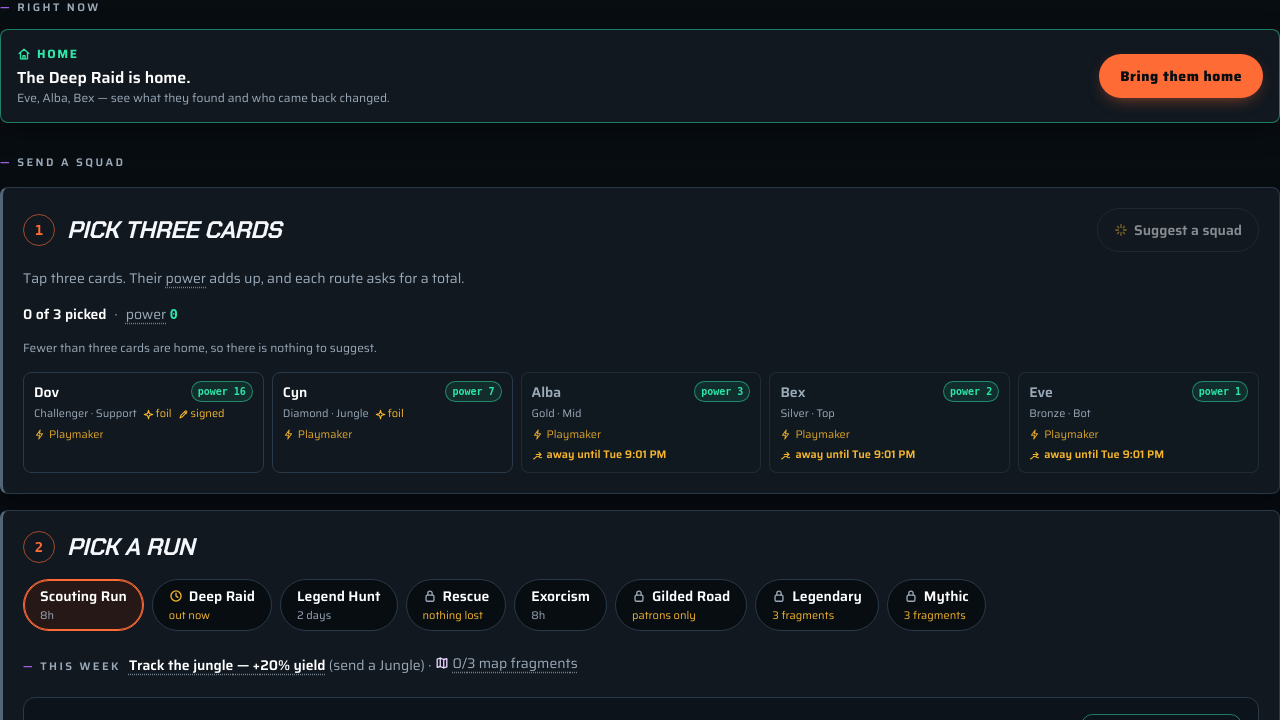
Scenario: ExpeditionBoard — the claim ceremony › can be dismissed with the keyboard
Click the button with aria-label "Claim the Deep Raid" at x=1181, y=76, box [1099, 54, 1263, 98]
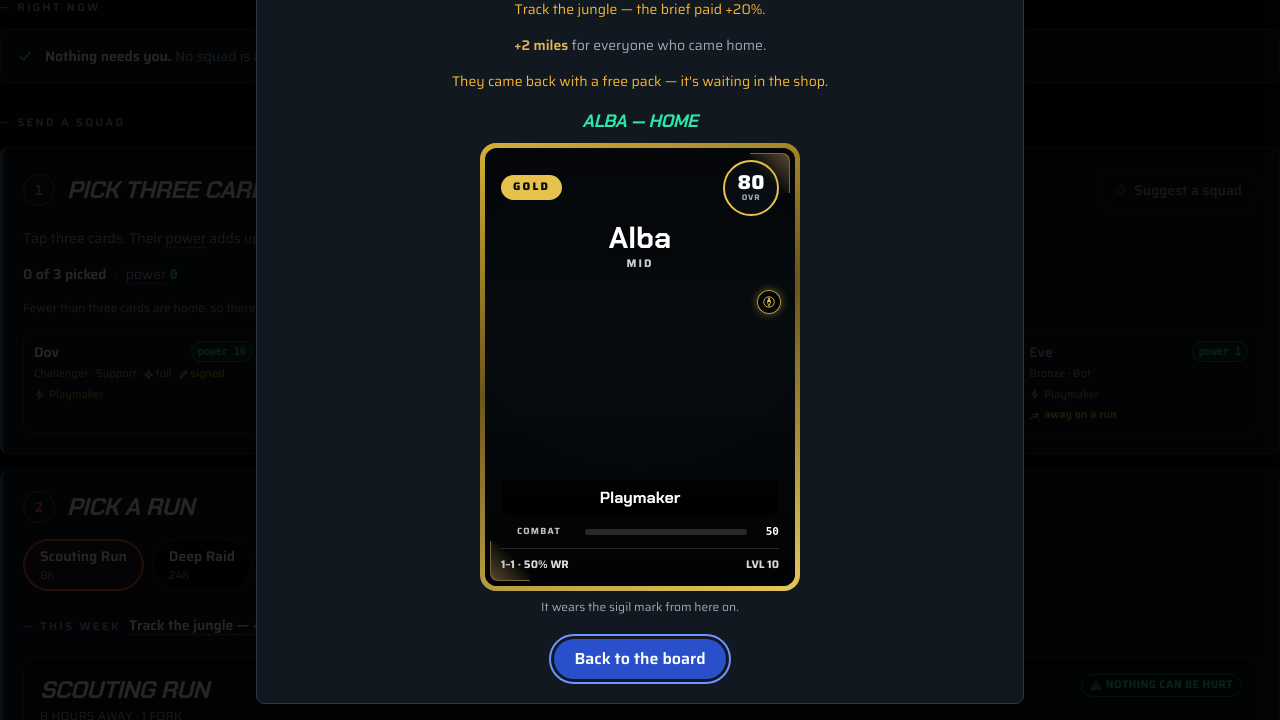
Result: the dialog with test id "expedition-ceremony" is shown
Result: the button "Back to the board" is shown at [554, 638, 726, 678]
Press Escape
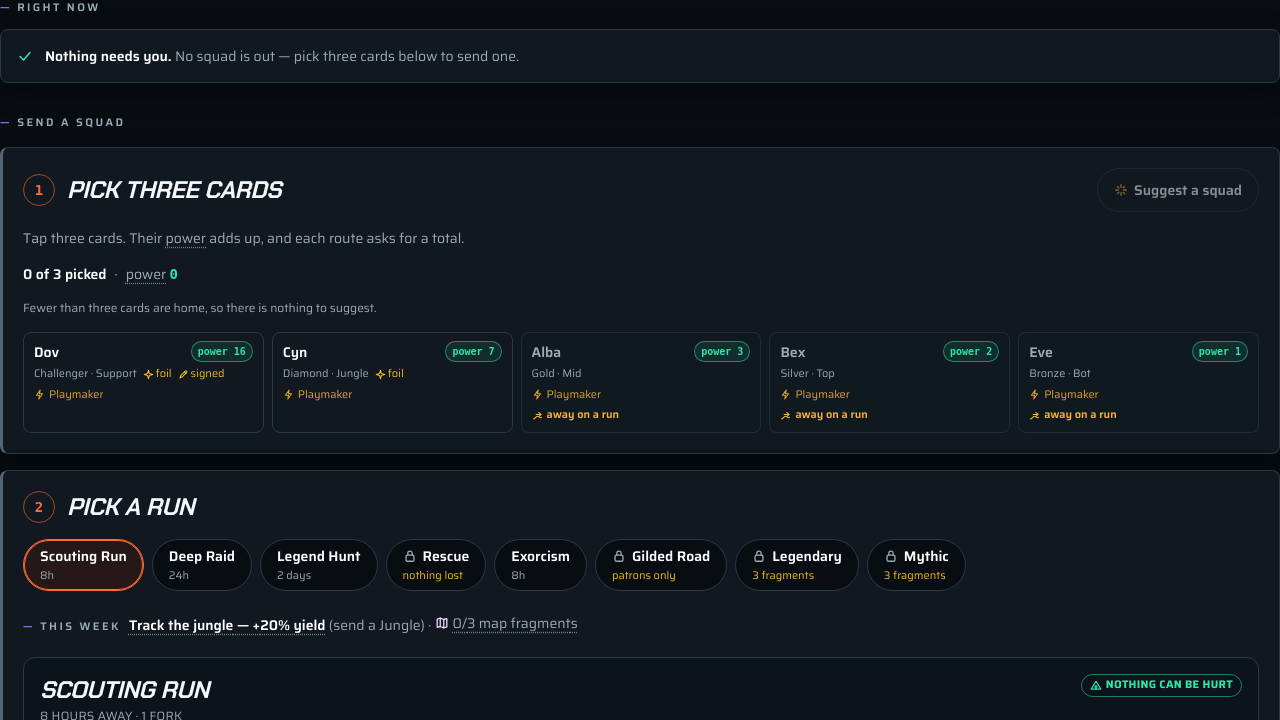
Result: the dialog with test id "expedition-ceremony" is gone
